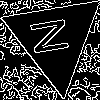N: (29, 14, 78, 57)
